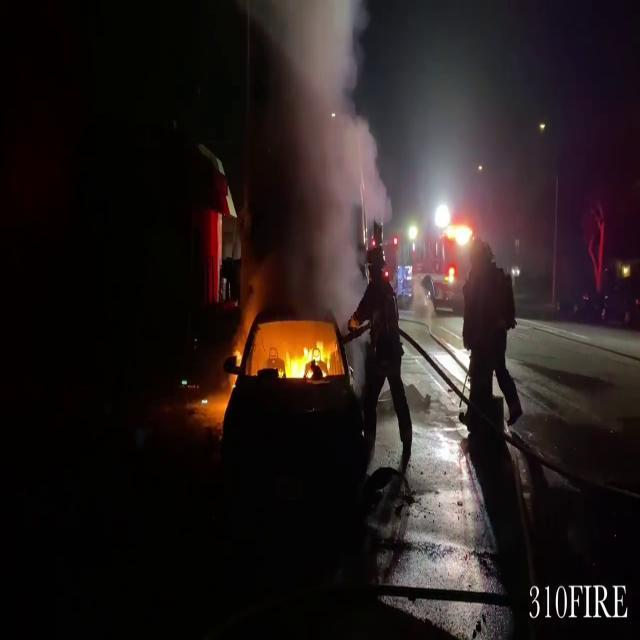Fire: (272, 324, 336, 388)
Smoke: (235, 0, 382, 312)
